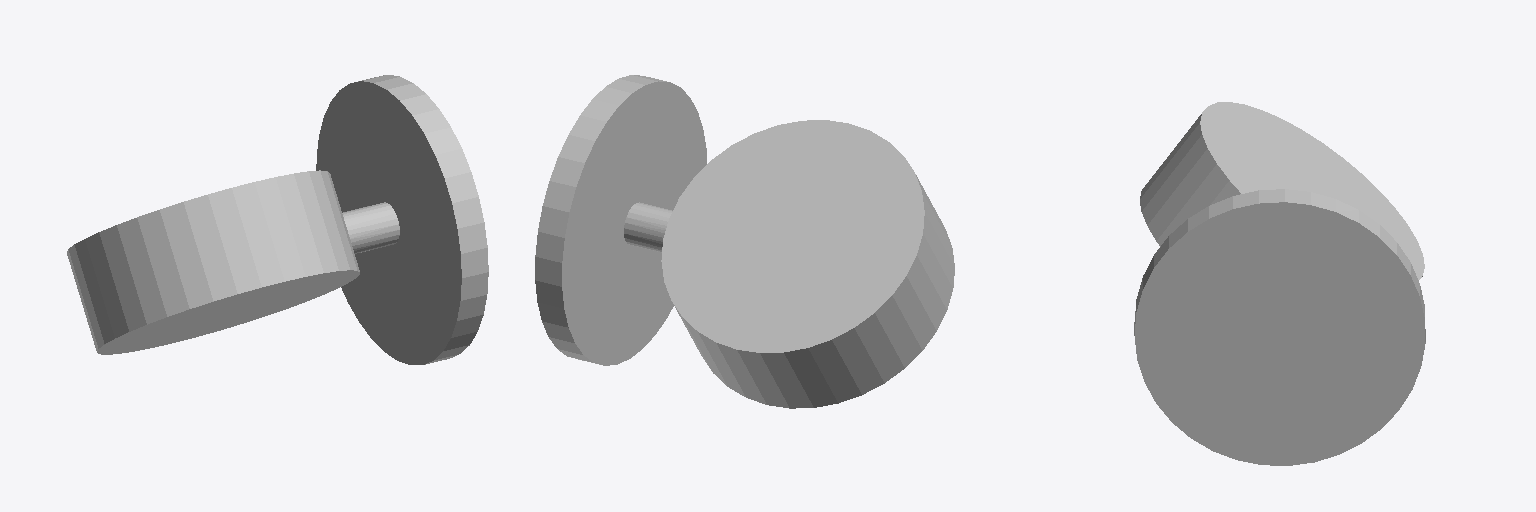
3 renders of one model, left to right at view 1: azimuth 30°, elevation 25°; view 2: azimuth 150°, elevation 25°; view 3: azimuth 270°, elevation 25°, orthographic.
Visible parts, largest first — view 1: MeshBody8; view 2: MeshBody8; view 3: MeshBody8.
Boxes of the visible parts, x1,y1,x2,y2 form: MeshBody8: [67, 75, 488, 364]; MeshBody8: [535, 75, 954, 408]; MeshBody8: [1134, 102, 1425, 465].
Size of the model in its own units: 0.0951 by 0.0749 by 0.0749.